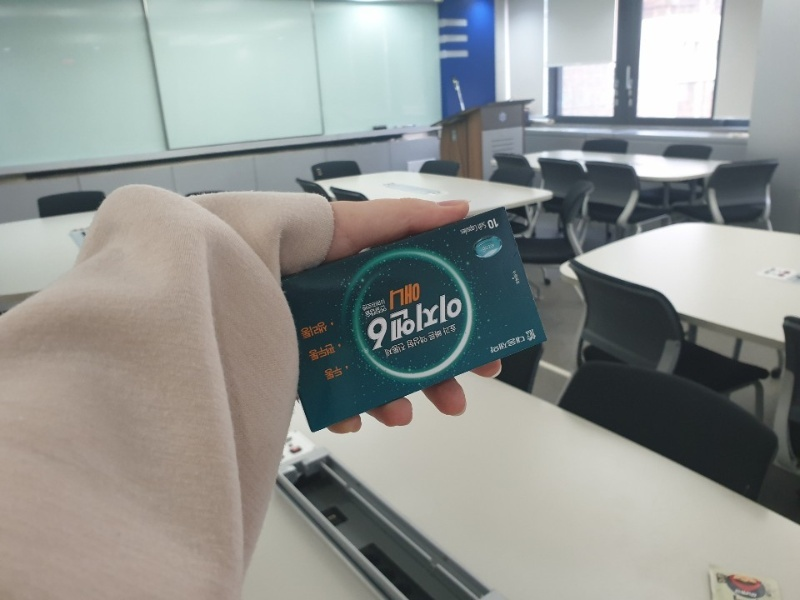ezn: (282, 209, 548, 434)
